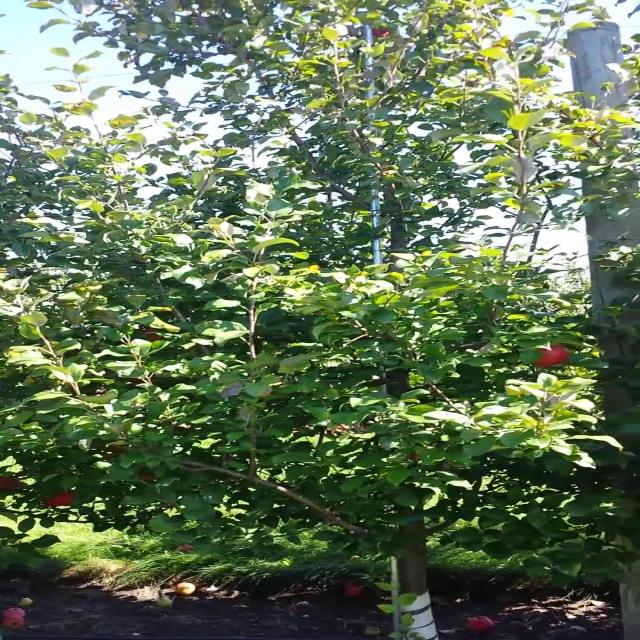apple: (532, 344, 572, 368), (127, 376, 160, 386), (56, 492, 78, 506), (141, 328, 164, 340), (6, 476, 23, 492), (376, 28, 391, 39), (141, 472, 156, 483), (49, 496, 62, 508)
